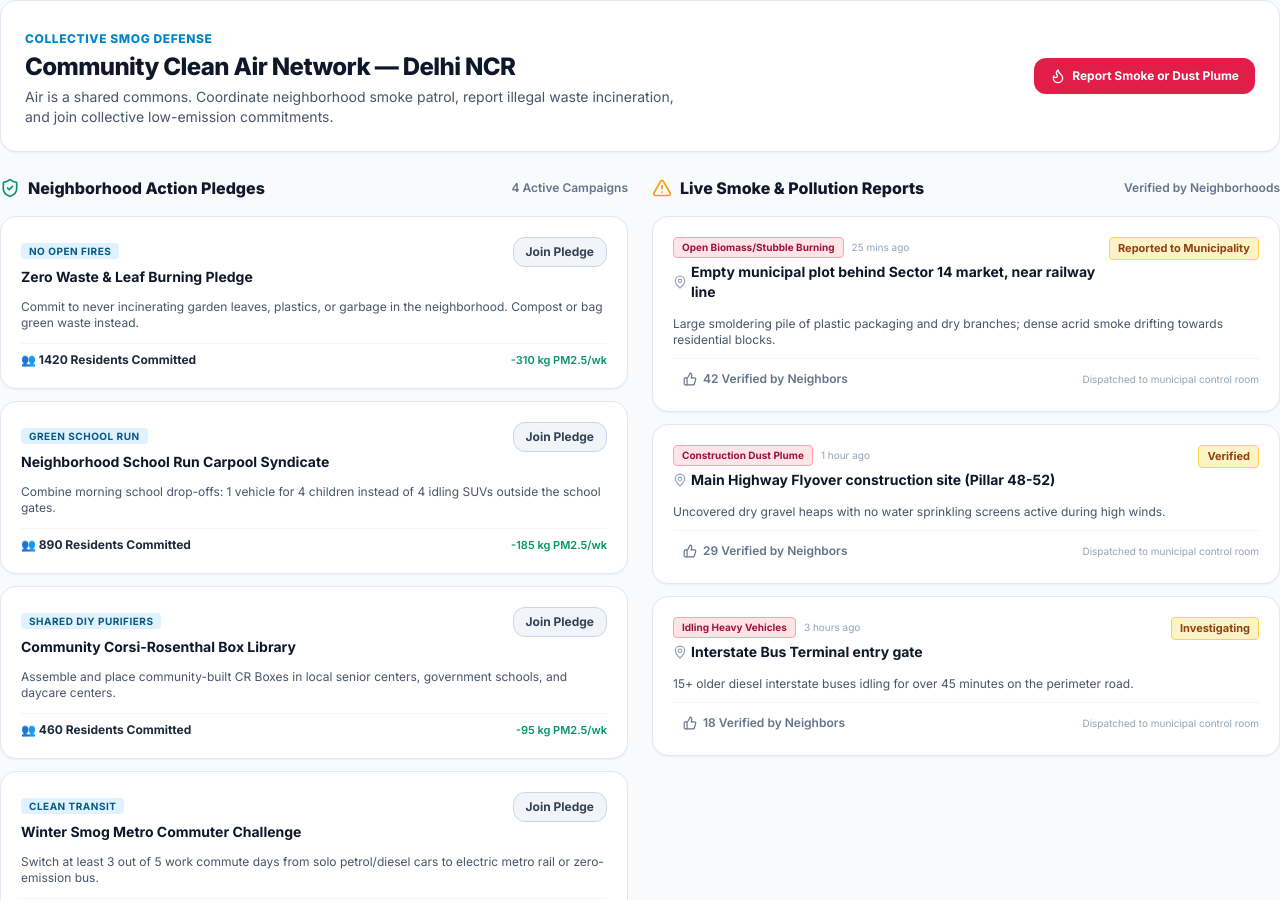
Test: CommunityActionHub Component › cancels the report modal via Cancel button or Escape key
Click the button "Report Smoke or Dust Plume" at (1145, 76), box [1034, 58, 1255, 94]
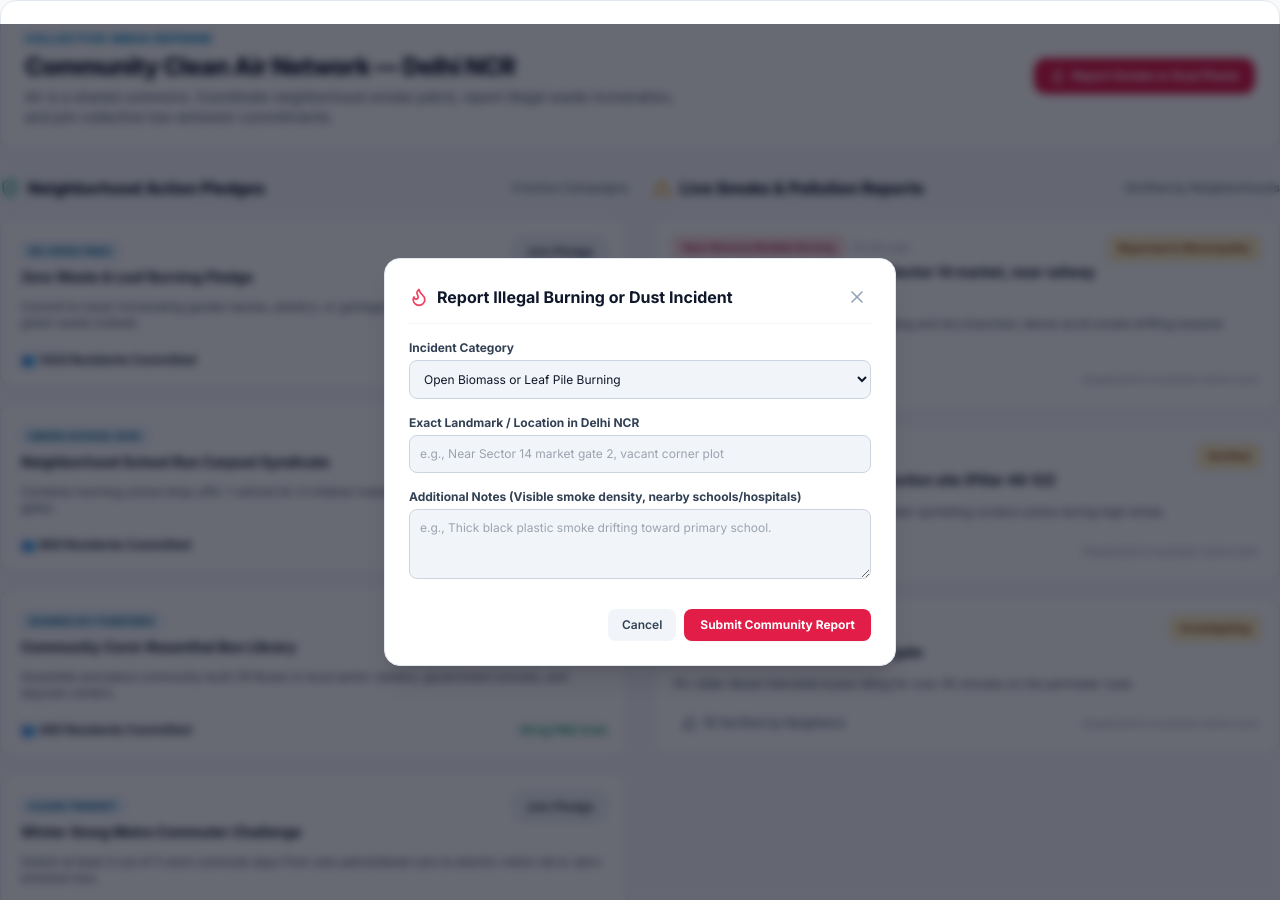
Now the heading "Report Illegal Burning or Dust Incident" is shown, box [437, 285, 733, 309]
Press Escape
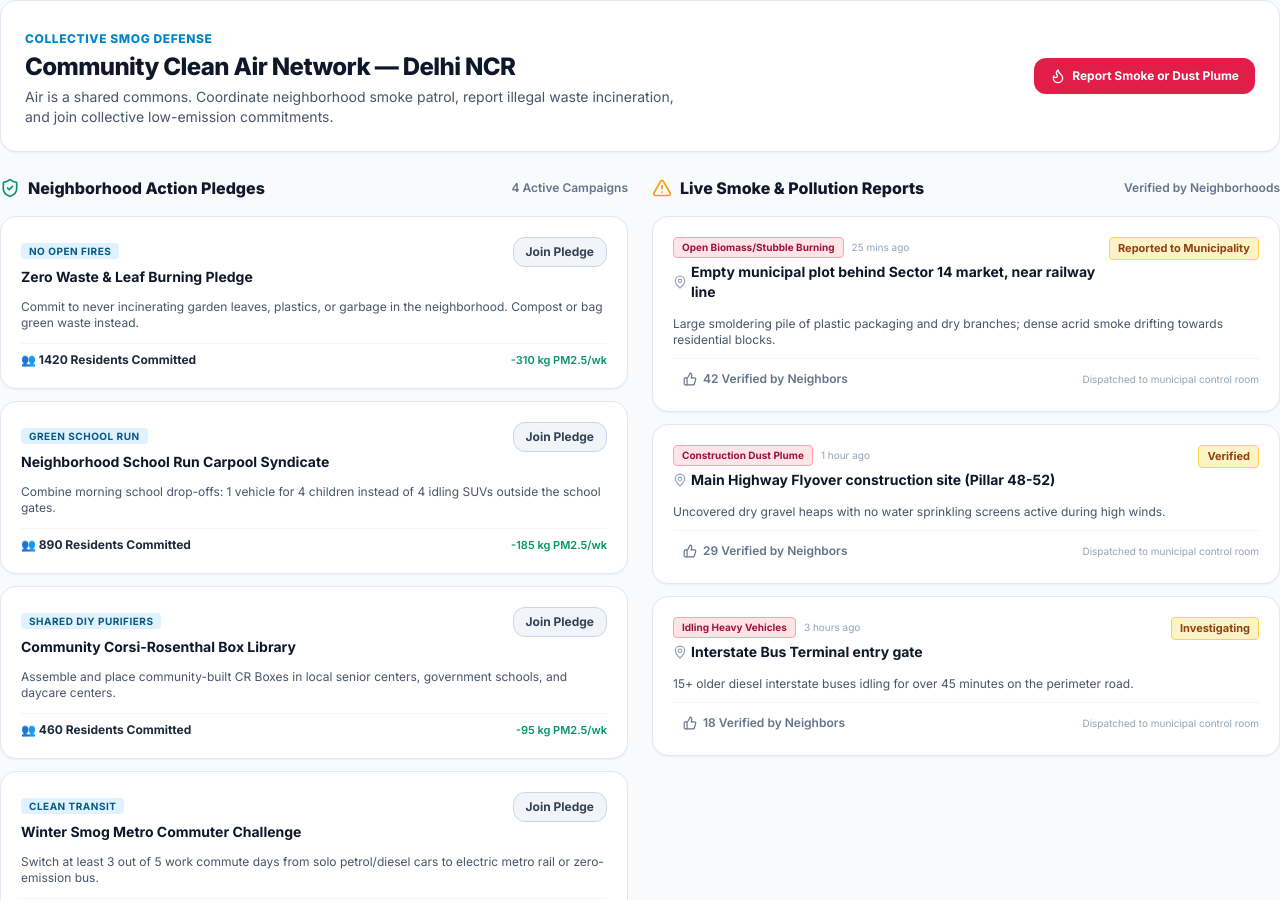
Now the heading "Report Illegal Burning or Dust Incident" is gone
